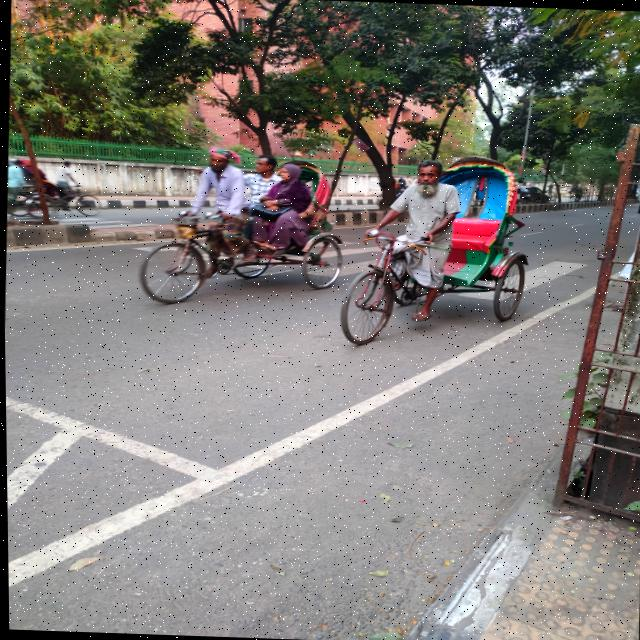rikshaw: (316, 150, 553, 356), (108, 148, 378, 310)
